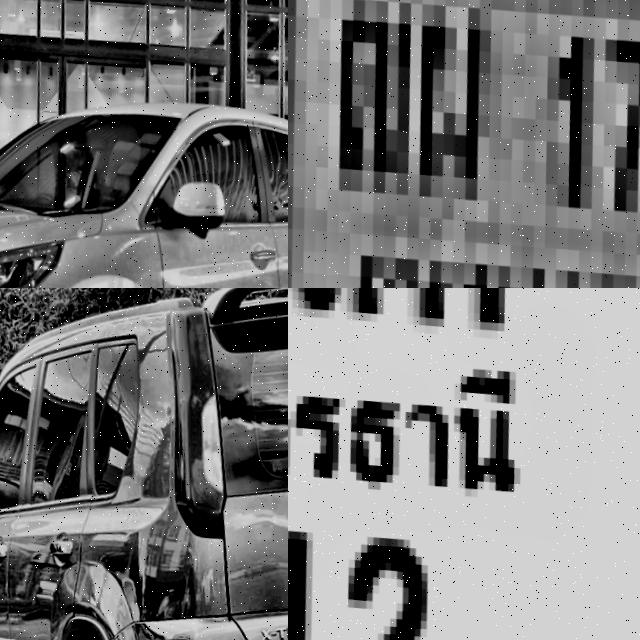license-plate: (288, 288, 640, 640), (288, 0, 640, 288)
